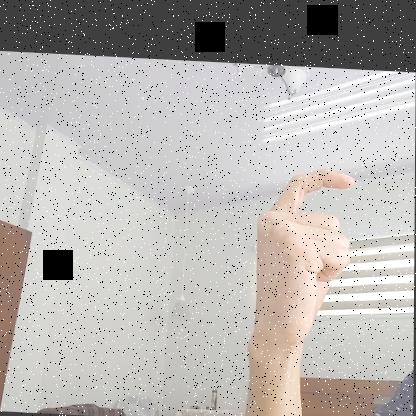X: (246, 158, 360, 361)
